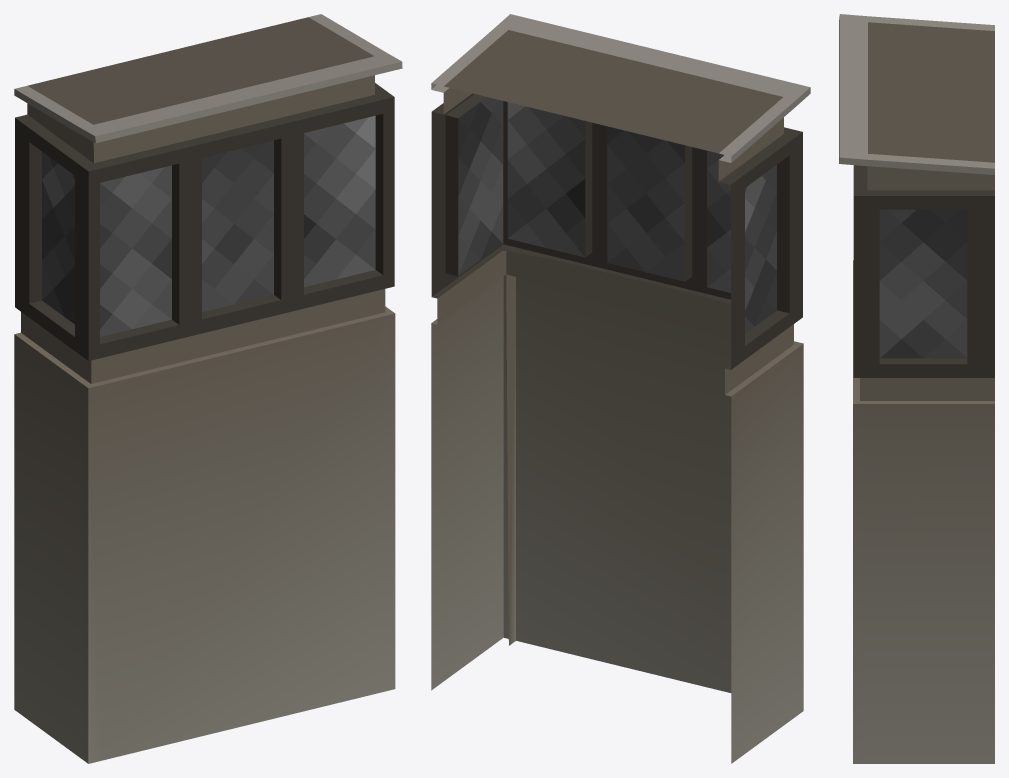
The model's file is Front_E.fbx.
3 renders of one model, left to right at view 1: azimuth 30°, elevation 25°; view 2: azimuth 150°, elevation 25°; view 3: azimuth 270°, elevation 25°, orthographic. The views are drawn at different scales.
Parts seen in each view (by area): view 1: Front_E; view 2: Front_E; view 3: Front_E.
Part boxes in pixels (bbox=[...]): Front_E: bbox=[14, 14, 402, 763]; Front_E: bbox=[431, 14, 810, 763]; Front_E: bbox=[839, 14, 994, 763].
Bounding box in the file's own units: 239 × 471 × 110.
